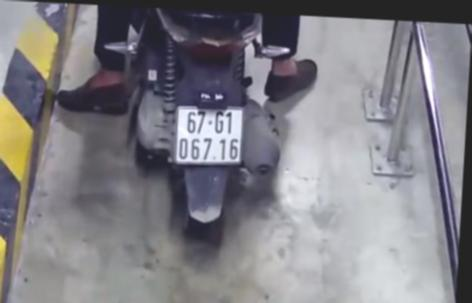License_Plate: (167, 102, 247, 173)
